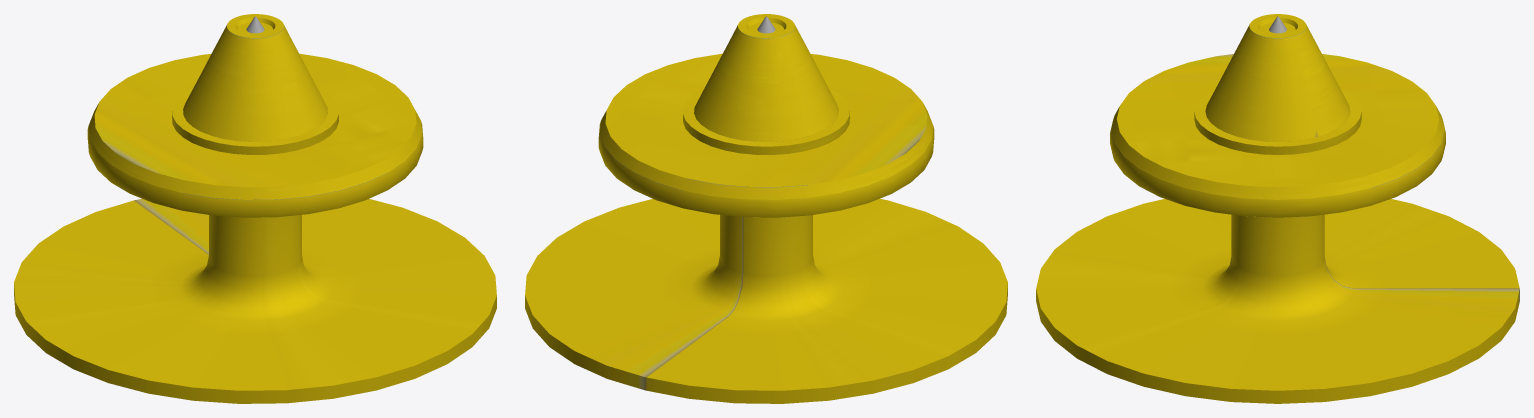
Rendered from Brinco.glb.
3 renders of one model, left to right at view 1: azimuth 30°, elevation 25°; view 2: azimuth 150°, elevation 25°; view 3: azimuth 270°, elevation 25°, orthographic.
Visible parts, largest first — view 1: BrincoA, BrincoB; view 2: BrincoA, BrincoB; view 3: BrincoA, BrincoB.
Boxes of the visible parts, x1,y1,x2,y2 form: BrincoA: (14, 16, 496, 403); BrincoB: (87, 14, 423, 217); BrincoA: (525, 16, 1007, 403); BrincoB: (598, 14, 934, 217); BrincoA: (1036, 16, 1519, 403); BrincoB: (1110, 14, 1445, 217).
Bounding box in the file's own units: 0.0919 × 0.0598 × 0.0919.
2 materials, 1 textured.
